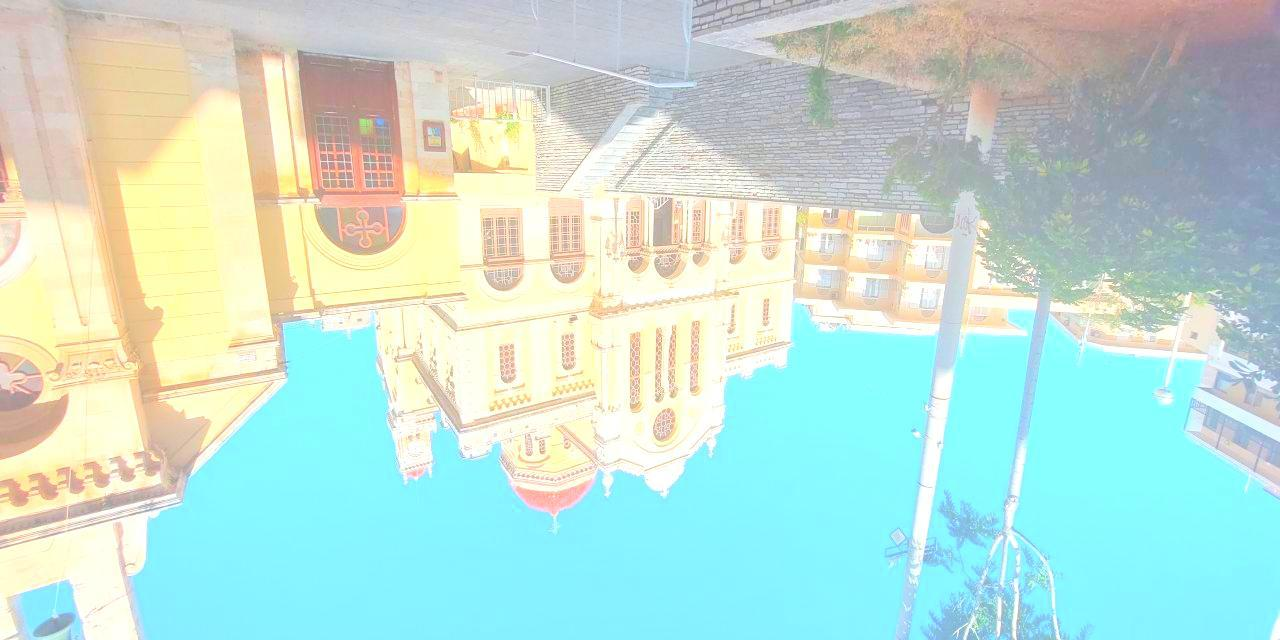Agios Minas: (2, 60, 798, 638)
